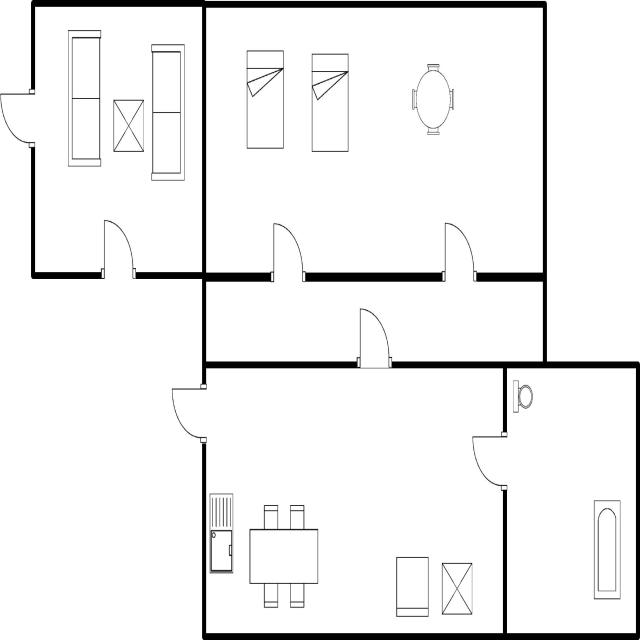bed: (242, 44, 288, 153), (308, 48, 352, 158)
coffee_table: (437, 557, 476, 620), (110, 95, 146, 161)
dining_table: (245, 496, 320, 613)
large_sink: (510, 374, 535, 418)
large_sofa: (147, 36, 189, 189), (64, 25, 104, 173)
round_table: (408, 59, 458, 140)
sink: (207, 488, 237, 578)
small_sofa: (392, 550, 430, 623)
tub: (590, 496, 624, 606)
